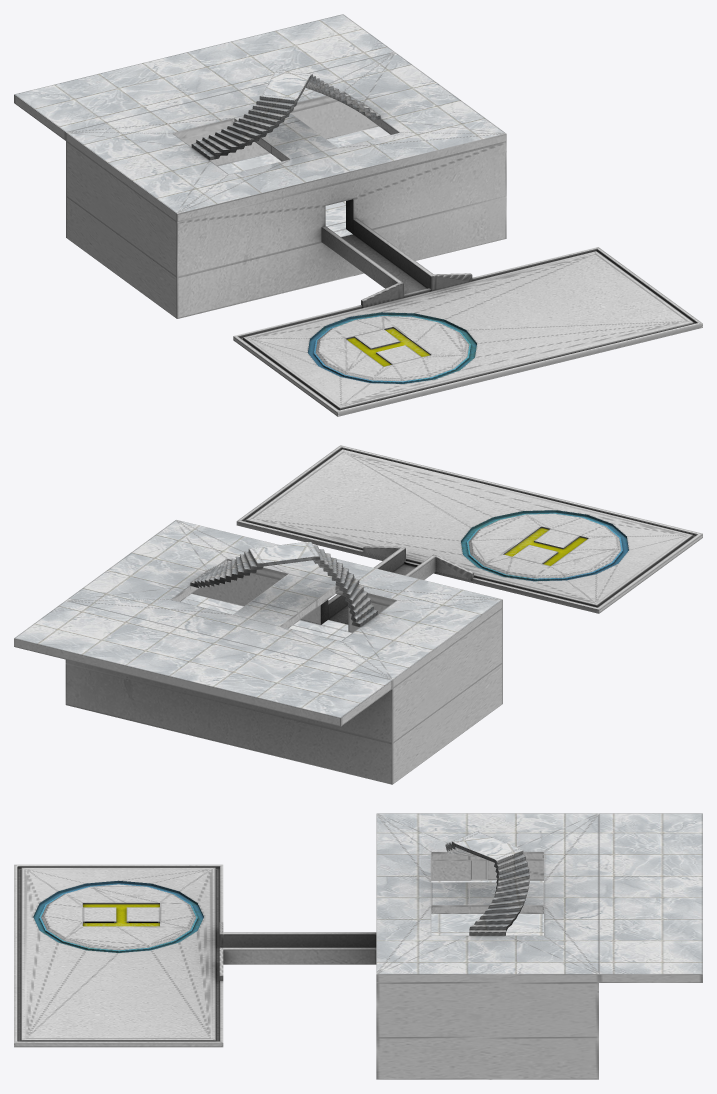
Rendered from Buidling.fbx.
3 views of the same model, one above another, from view 1: azimuth 30°, elevation 25°; view 2: azimuth 150°, elevation 25°; view 3: azimuth 270°, elevation 25° (orthographic).
Parts seen in each view (by area): view 1: Building; view 2: Building; view 3: Building.
Boxes of the visible parts, x1,y1,x2,y2 form: Building: [14, 14, 702, 416]; Building: [14, 445, 702, 784]; Building: [14, 813, 702, 1079].
Bounding box in the file's own units: 22.37 × 8.96 × 36.54.
